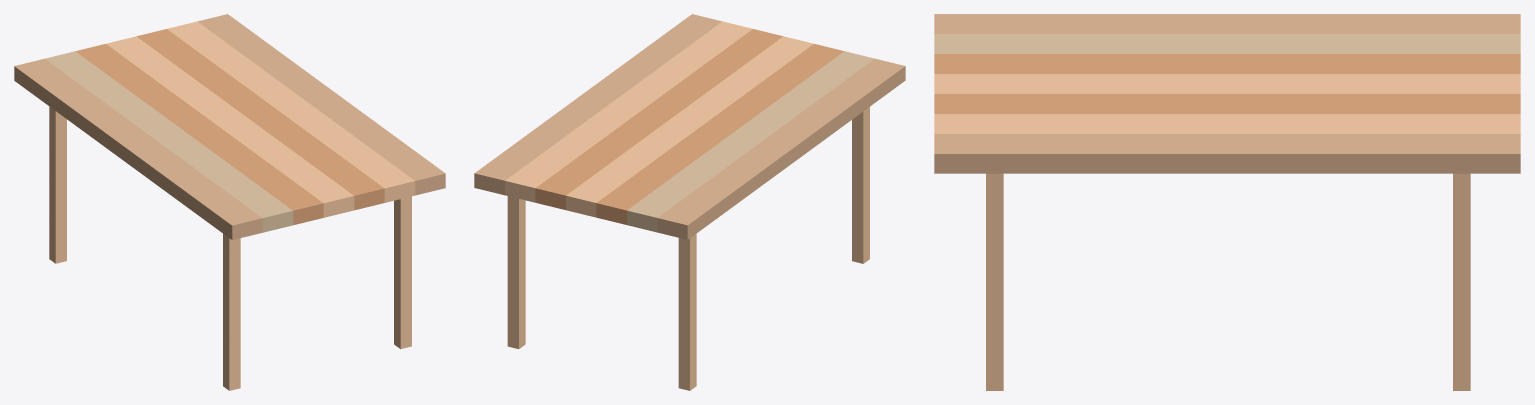
The model's file is masa.fbx.
3 renders of one model, left to right at view 1: azimuth 30°, elevation 25°; view 2: azimuth 150°, elevation 25°; view 3: azimuth 270°, elevation 25°, orthographic. The views are drawn at different scales.
Parts seen in each view (by area): view 1: Cube.020; view 2: Cube.020; view 3: Cube.020.
Part boxes in pixels (<box>): Cube.020: <box>14,14,445,390</box>; Cube.020: <box>474,14,905,390</box>; Cube.020: <box>934,14,1520,390</box>.
Bounding box in the file's own units: 166 × 136 × 294.
